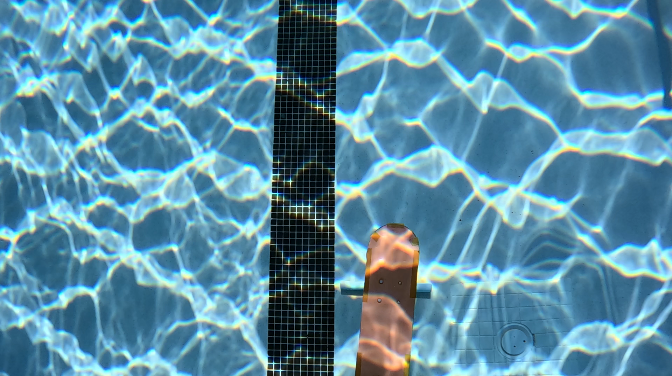pathmarker: (356, 224, 418, 375)
